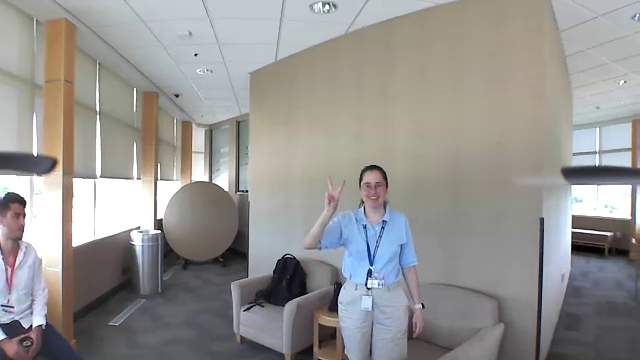peace: (319, 172, 349, 215)
